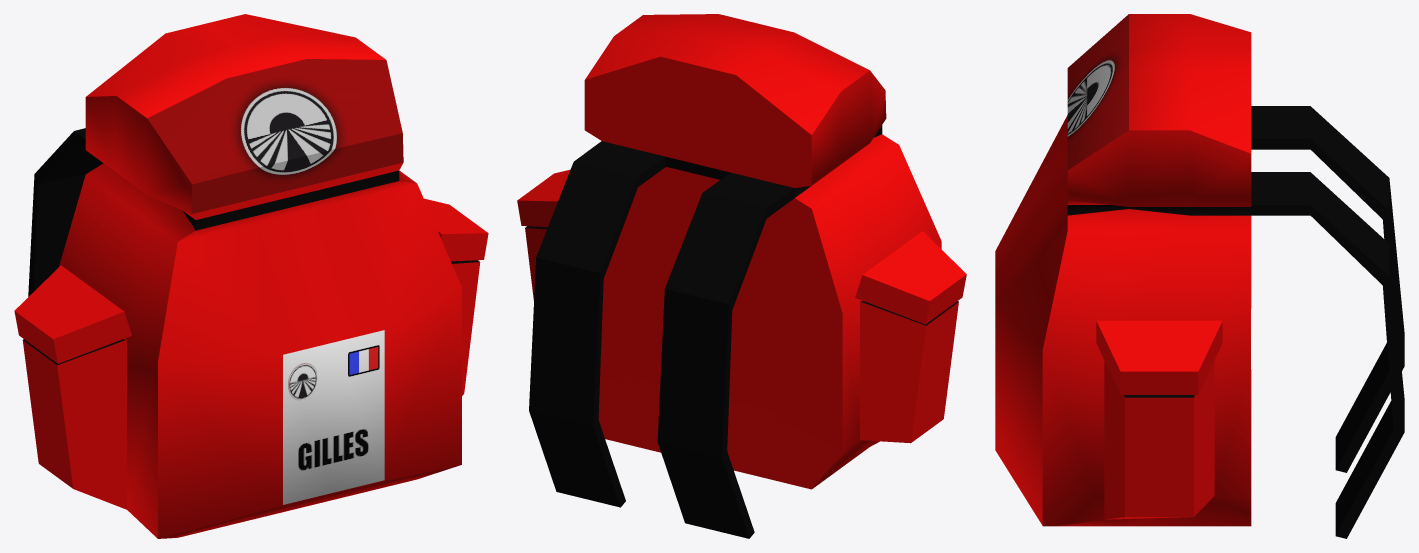
The model's file is backpack.glb.
3 renders of one model, left to right at view 1: azimuth 30°, elevation 25°; view 2: azimuth 150°, elevation 25°; view 3: azimuth 270°, elevation 25°, orthographic. The views are drawn at different scales.
Visible parts, largest first — view 1: Box001, Dessus; view 2: Box001, Dessus; view 3: Box001, Dessus.
Boxes of the visible parts, x1,y1,x2,y2 form: Box001: (14,128,488,538); Dessus: (85,14,403,219); Box001: (517,125,966,538); Dessus: (584,14,886,187); Box001: (995,106,1404,538); Dessus: (1067,14,1251,206).
Size of the model in its own units: 1.09 by 1.05 by 0.8911.
4 materials, 2 textured.
